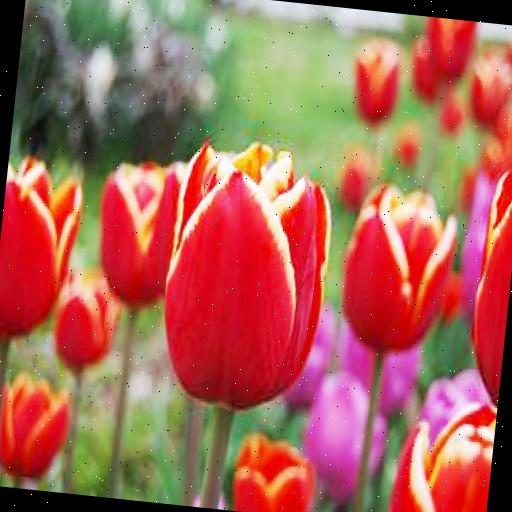tulip: (154, 148, 336, 410), (338, 180, 459, 356), (94, 155, 190, 307), (0, 166, 82, 343), (0, 376, 70, 478), (232, 431, 317, 512), (54, 273, 125, 368), (349, 36, 404, 124), (468, 45, 512, 126)
